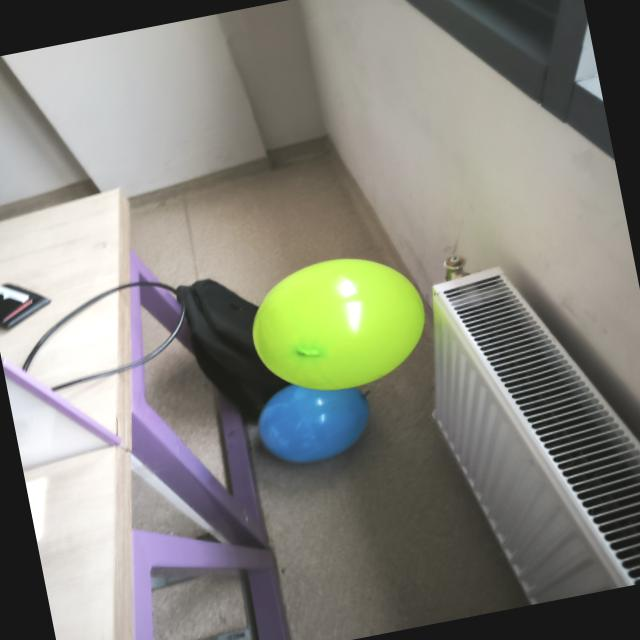balloon: (253, 259, 425, 390), (259, 385, 369, 463)
